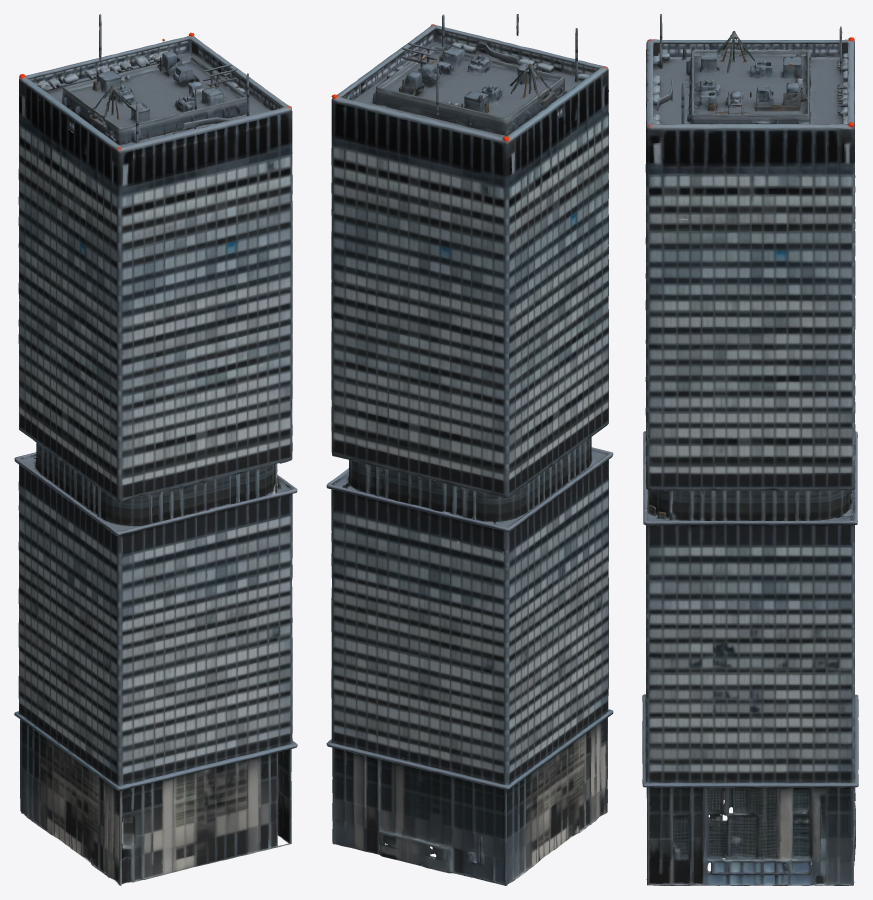
Rendered from city_tower_a.0.glb.
3 views of the same model, side by side, from view 1: azimuth 30°, elevation 25°; view 2: azimuth 150°, elevation 25°; view 3: azimuth 270°, elevation 25° (orthographic). The views are drawn at different scales.
Parts seen in each view (by area): view 1: geometry_0; view 2: geometry_0; view 3: geometry_0.
Part boxes in pixels (<box>): geometry_0: <box>14,14,297,885</box>; geometry_0: <box>326,14,613,885</box>; geometry_0: <box>642,14,858,885</box>.
Size of the model in its own units: 0.2408 by 0.9988 by 0.2414.
Materials: 1 (1 with a texture image).
